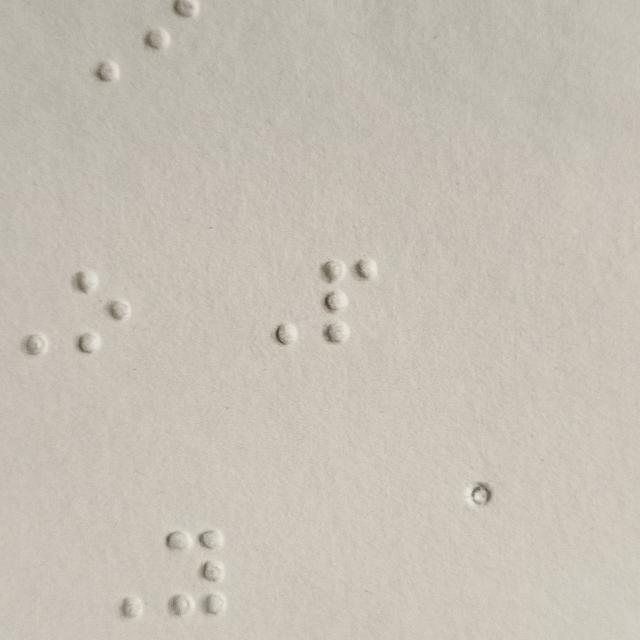capital_sign: (67, 0, 124, 86), (244, 261, 300, 347), (91, 533, 147, 619), (0, 270, 50, 356)
letter_I: (142, 0, 198, 86)
letter_O: (75, 267, 131, 354)
letter_P: (322, 259, 378, 345)
letter_Y: (322, 257, 378, 344)
letter_Z: (165, 531, 225, 617)
